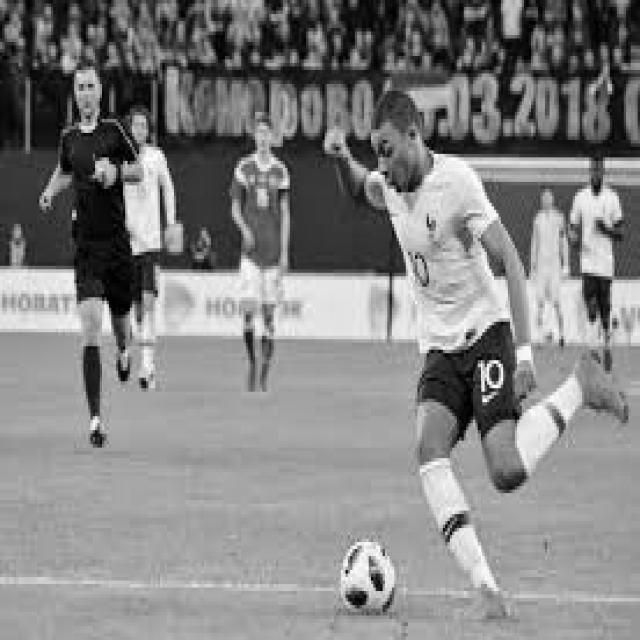football: (334, 536, 400, 618)
